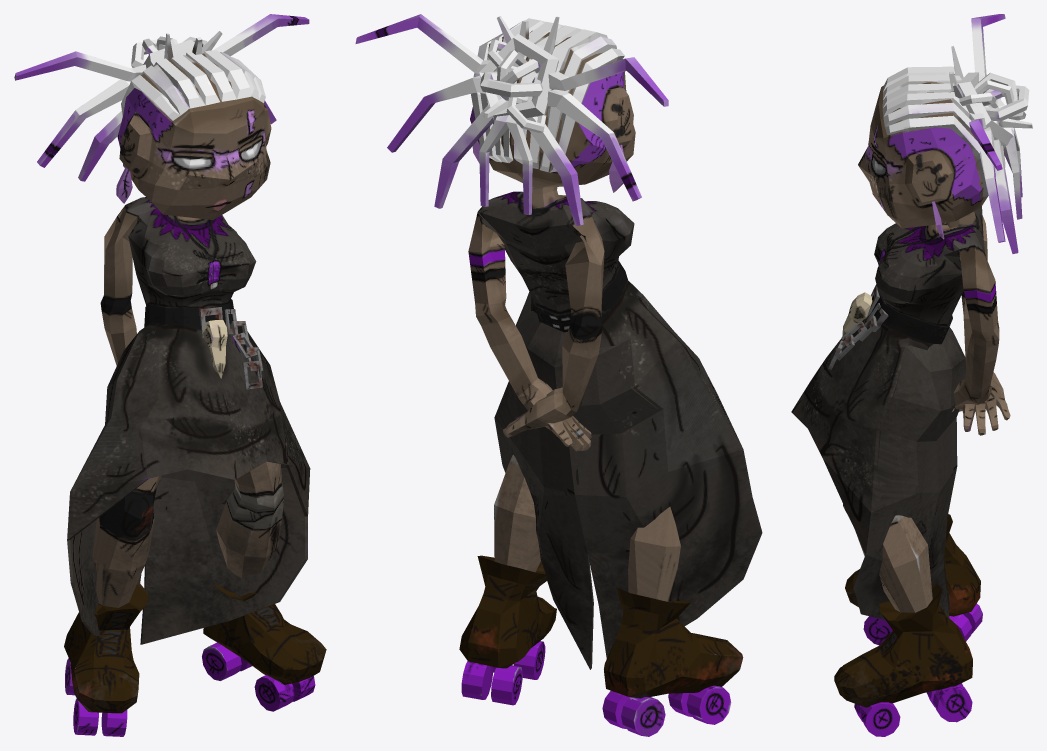
Rendered from bruja_000009.obj.
3 renders of one model, left to right at view 1: azimuth 30°, elevation 25°; view 2: azimuth 150°, elevation 25°; view 3: azimuth 270°, elevation 25°, orthographic. The views are drawn at different scales.
Parts seen in each view (by area): view 1: Bruja_Plane.001; view 2: Bruja_Plane.001; view 3: Bruja_Plane.001.
Boxes of the visible parts, x1,y1,x2,y2 form: Bruja_Plane.001: (14, 14, 326, 736); Bruja_Plane.001: (355, 14, 762, 736); Bruja_Plane.001: (791, 14, 1032, 736).
Bounding box in the file's own units: 7.88 × 16.14 × 5.47.
